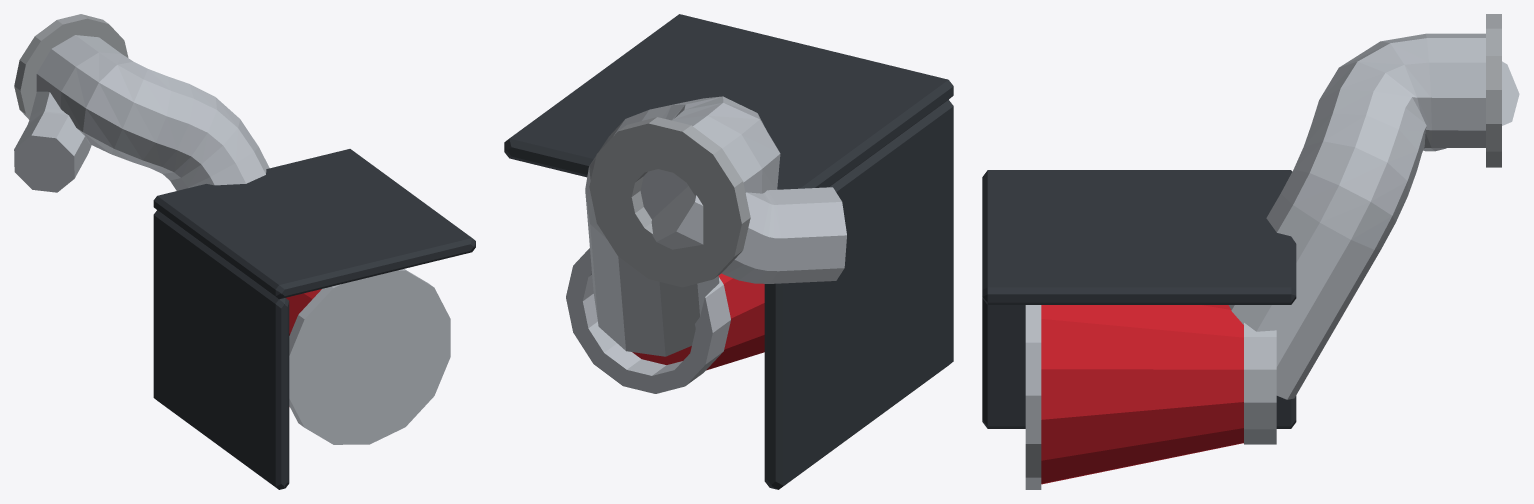
The model's file is starter_car.glb.
3 views of the same model, side by side, from view 1: azimuth 30°, elevation 25°; view 2: azimuth 150°, elevation 25°; view 3: azimuth 270°, elevation 25° (orthographic). The views are drawn at different scales.
Visible parts, largest first — view 1: model; view 2: model; view 3: model.
Part boxes in pixels (x1=…): model: x1=14, y1=14, x2=475, y2=489; model: x1=504, y1=14, x2=953, y2=489; model: x1=982, y1=14, x2=1519, y2=489.
Bounding box in the file's own units: 0.3215 × 0.3386 × 0.4106.
2 materials, 1 textured.
